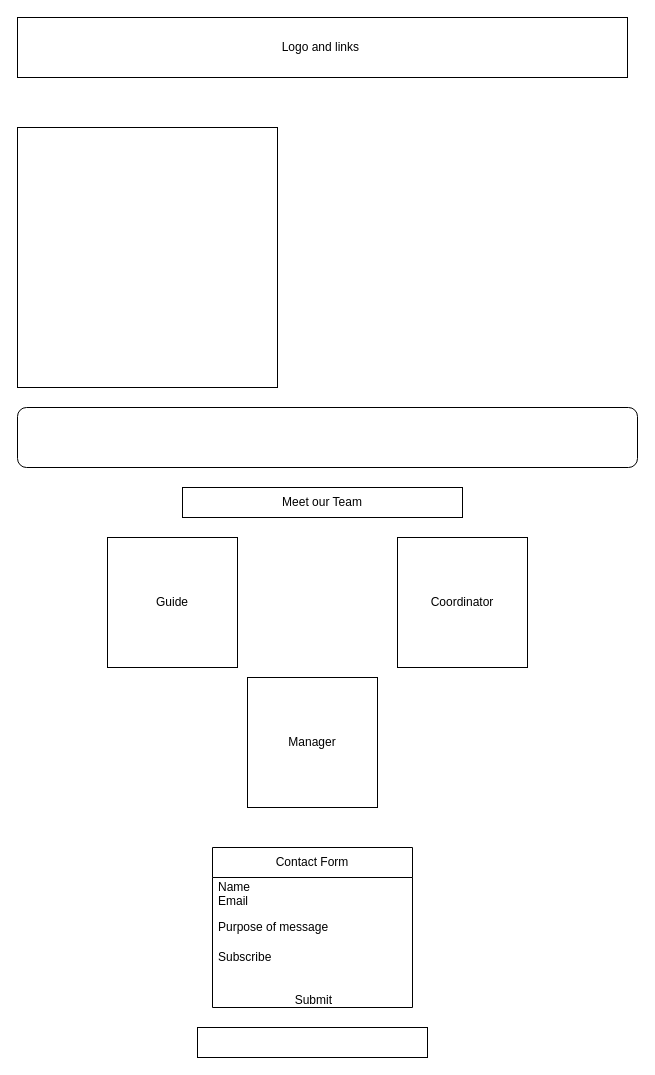
Some shapes in this 655 by 1075 pixel diagram are drawn without their labels. The shapes that lost their labels are listed below. From the top down, each one's centre as x and y in pixels, then its label:
(147,257): Contact us Company Information Address: Phone: Email
(327,437): Google Location - Map
(312,1042): Footer and social medias
